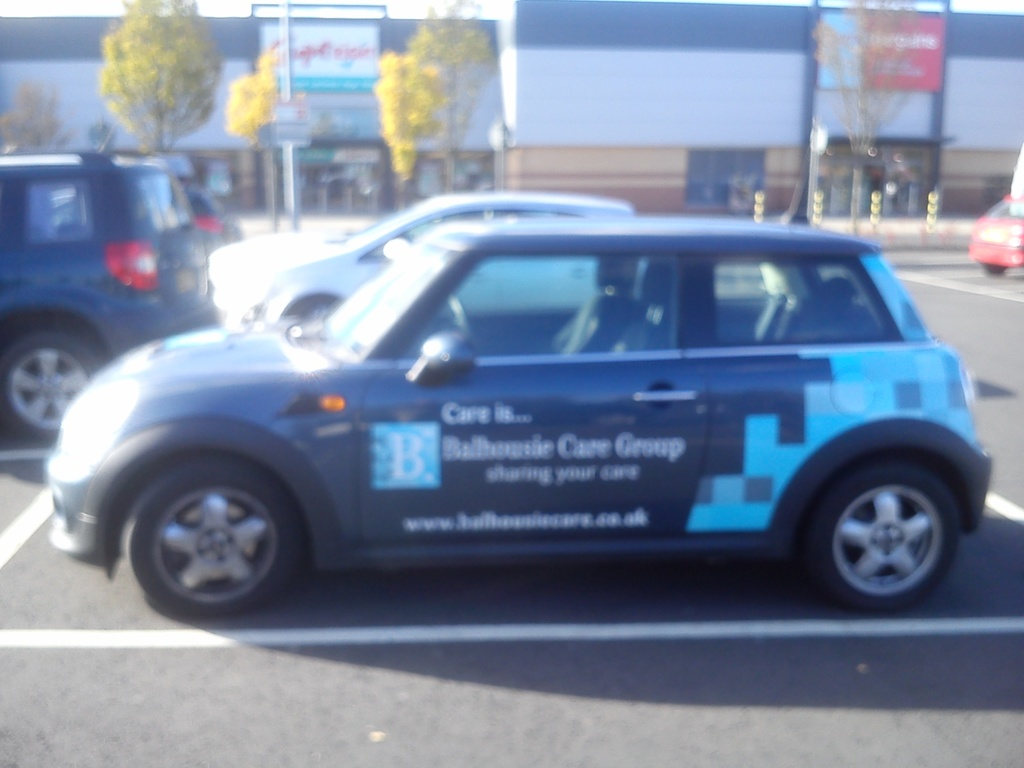Tree: (810, 0, 924, 235), (367, 1, 494, 194), (99, 0, 217, 155), (224, 44, 276, 220), (0, 82, 68, 156)
